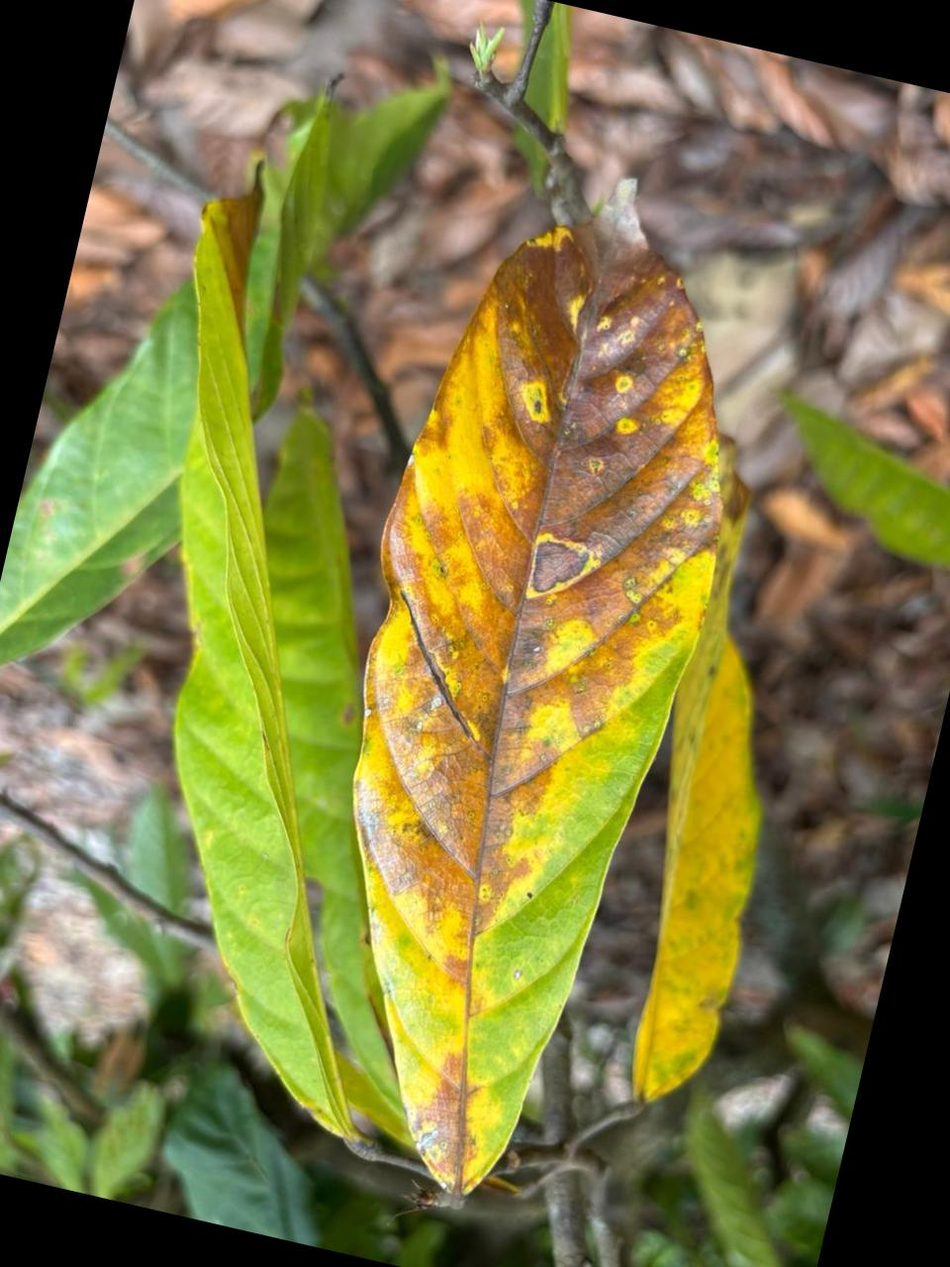Fosforo: (353, 183, 720, 1195)
